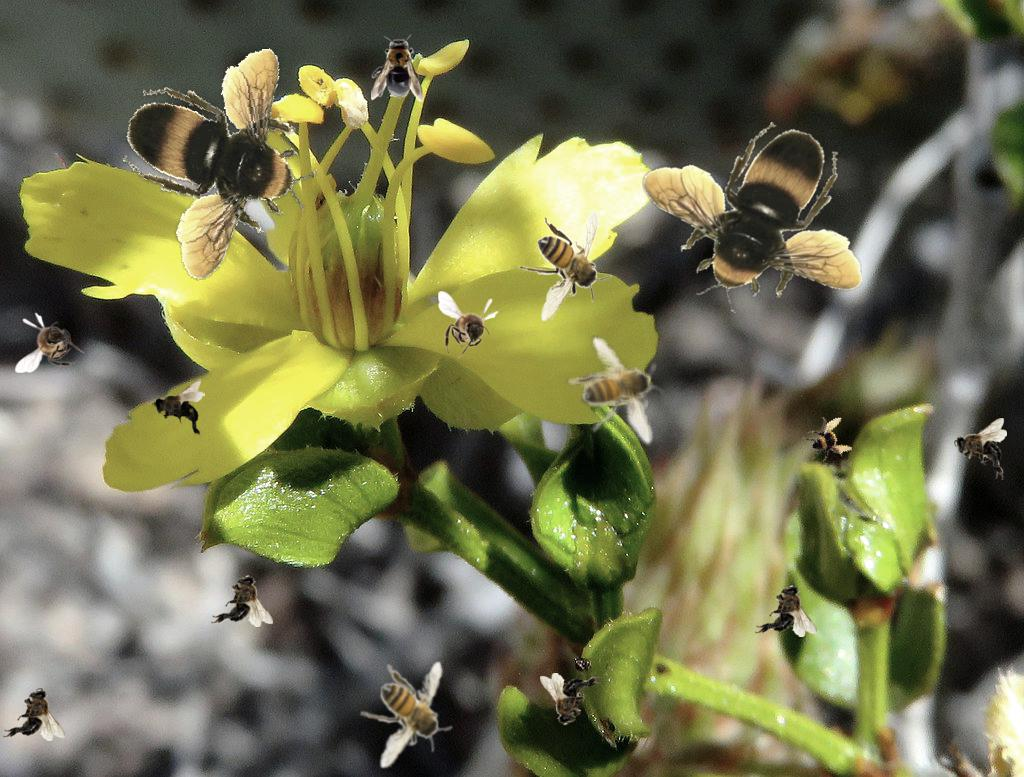Bee: (110, 44, 330, 289), (642, 122, 862, 313), (546, 323, 693, 465), (356, 657, 457, 773), (518, 211, 612, 322), (438, 291, 499, 361), (15, 312, 85, 373), (797, 409, 857, 469), (371, 34, 423, 102), (3, 688, 65, 741), (152, 379, 205, 441), (540, 673, 602, 726), (211, 574, 273, 627), (755, 584, 817, 637), (954, 418, 1007, 480)
